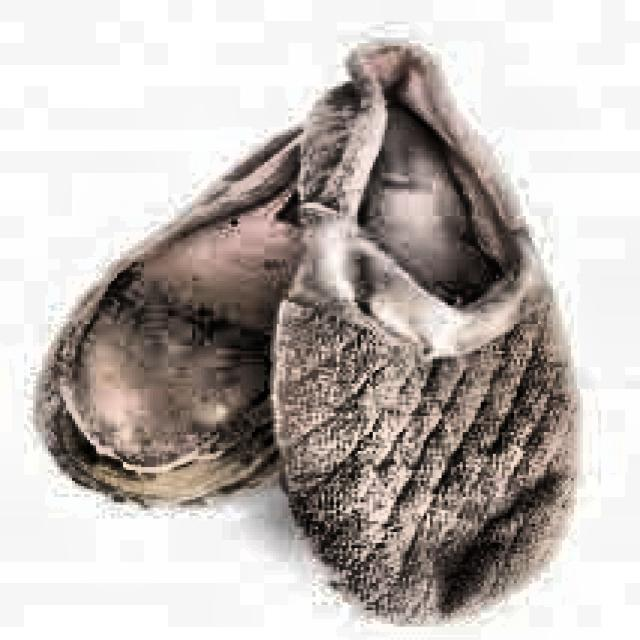shoes: (11, 74, 583, 632)
